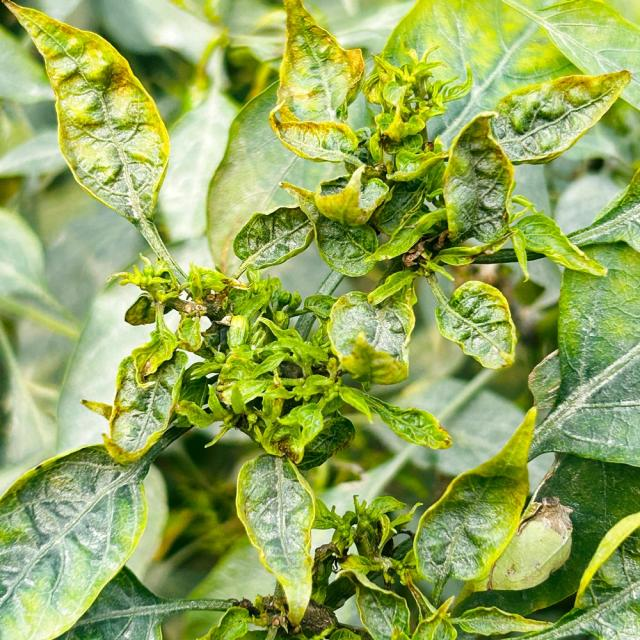Chilli_Leaf_Curl: (1, 1, 638, 638), (2, 1, 189, 286), (0, 442, 150, 638), (411, 404, 538, 587), (268, 0, 366, 165), (234, 453, 318, 627), (488, 68, 630, 166), (441, 110, 515, 246), (325, 289, 415, 387), (429, 277, 518, 371)
